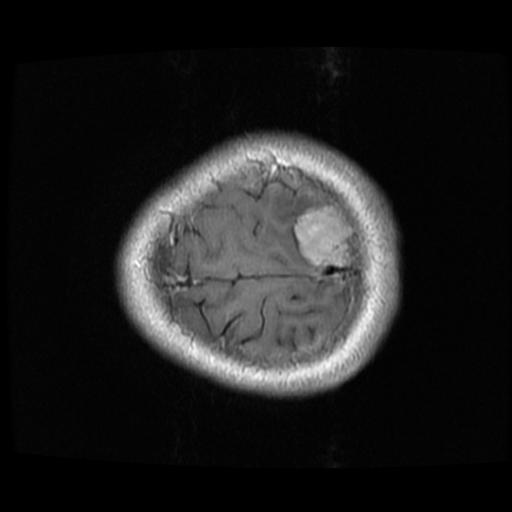meningioma: (293, 203, 352, 269)
